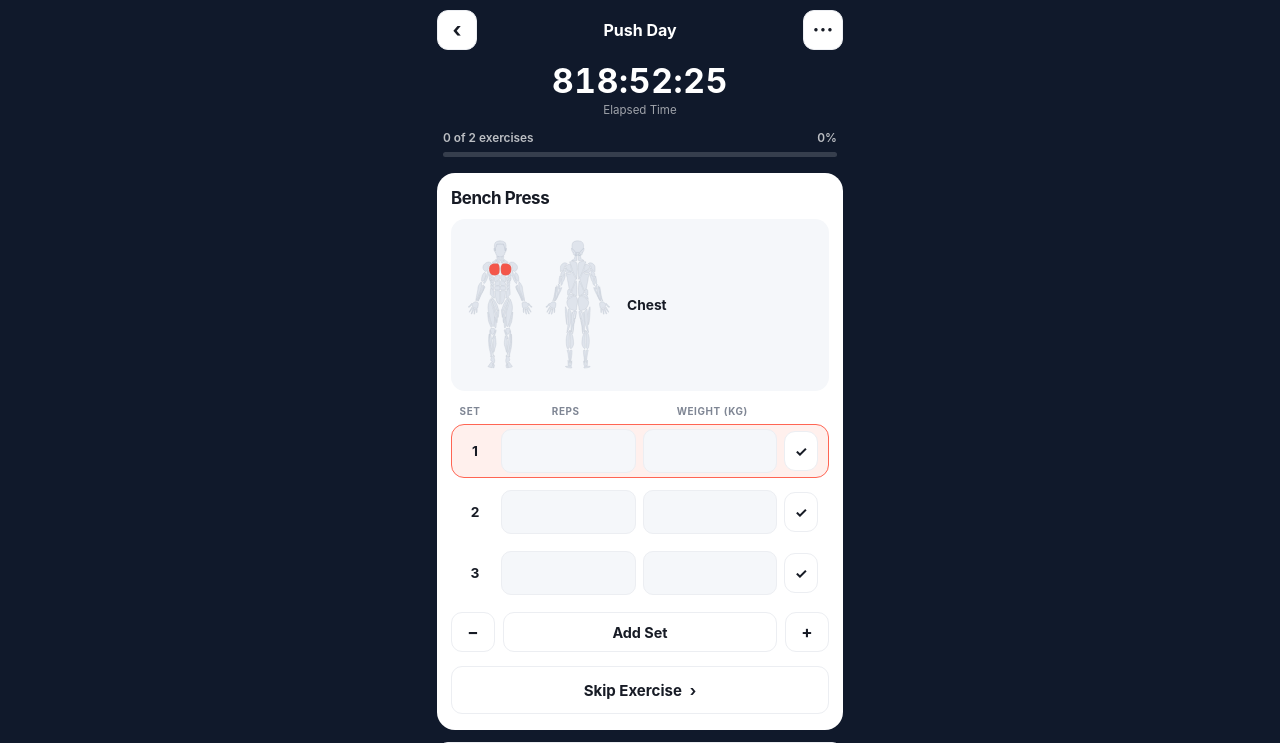
Test: WorkoutRunnerScreen — running a session › goes back to the previous exercise from the options menu
This screenshot has width=1280, height=743.
Click the button "Skip Exercise ›" at (640, 690), box x1=451 y1=666 x2=829 y2=714
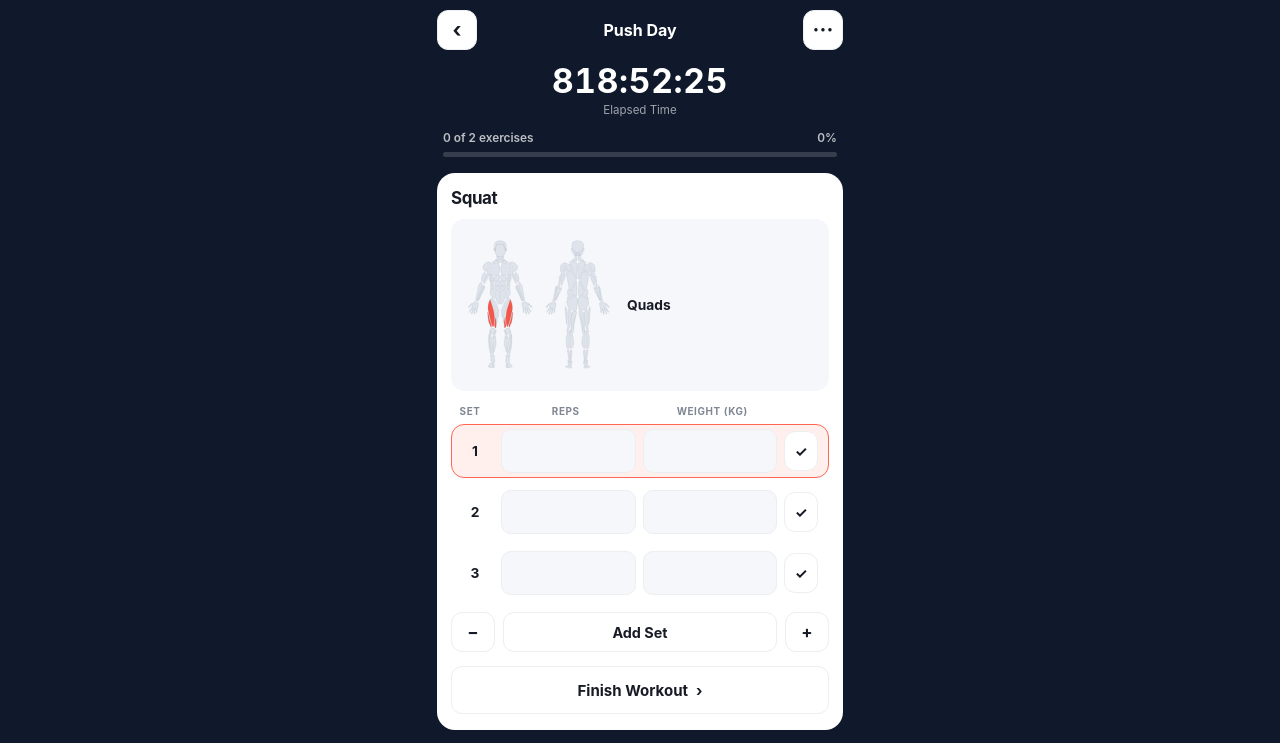
Expected: the heading "Squat" is shown, x1=451 y1=188 x2=497 y2=208
Click the button named "Workout options" at (823, 30), box x1=803 y1=10 x2=843 y2=50
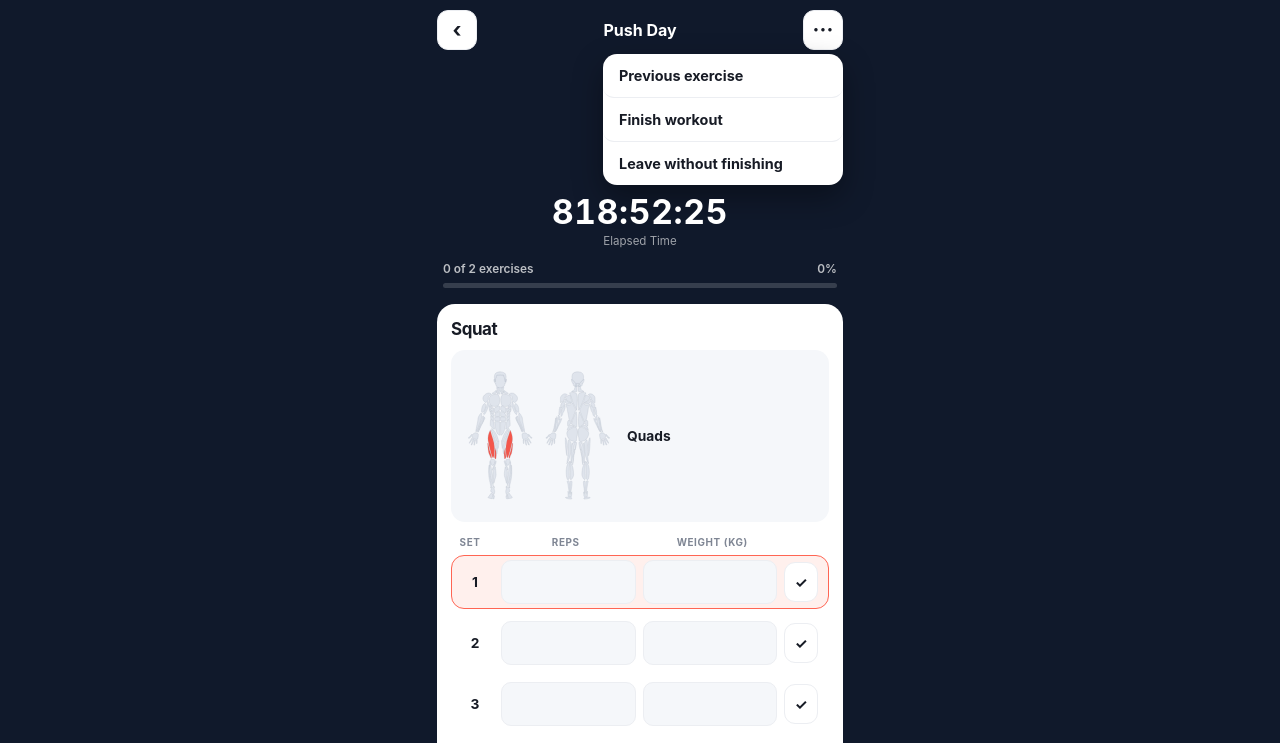
Click the button "Previous exercise" at (723, 76), box x1=603 y1=54 x2=843 y2=98
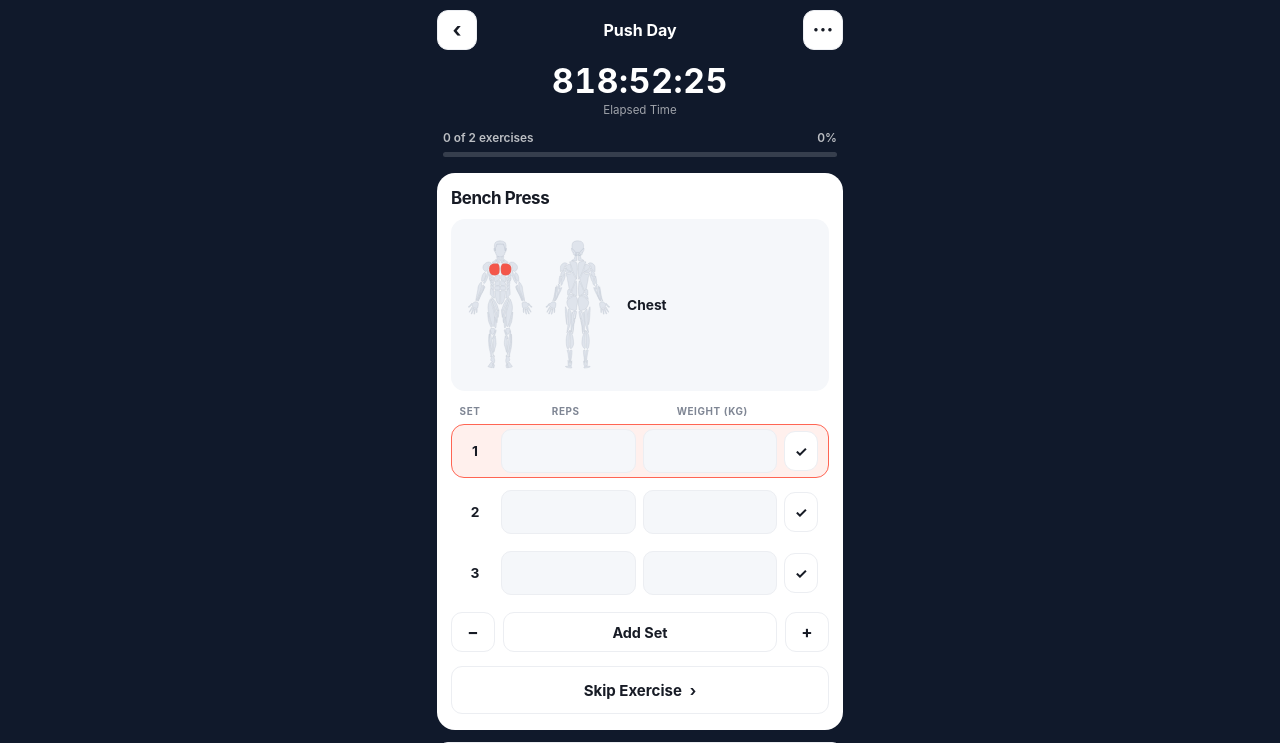
Expected: the heading "Bench Press" is shown, x1=451 y1=188 x2=549 y2=208
